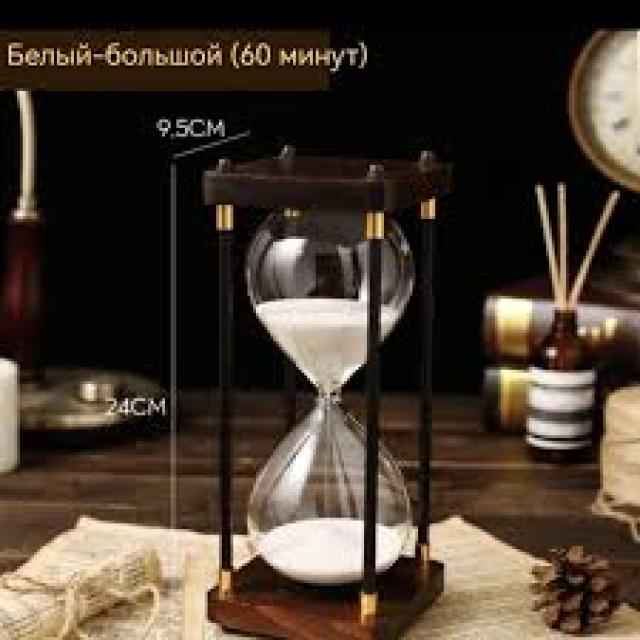clock: (187, 133, 486, 640)
